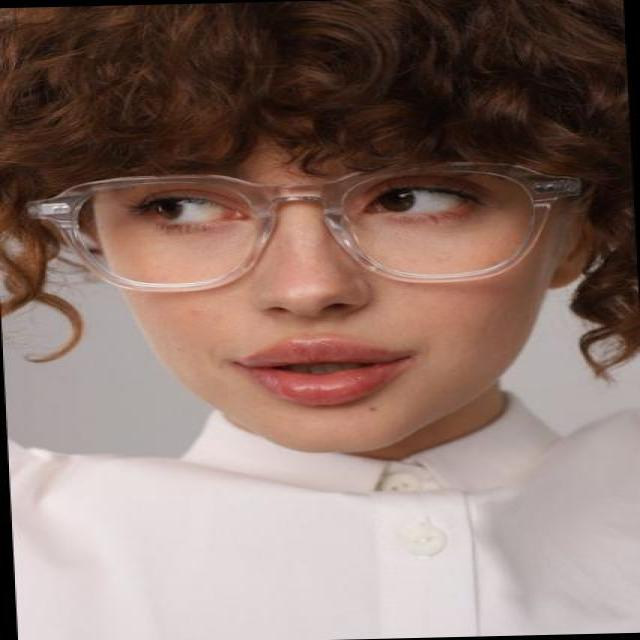glasses: (26, 164, 590, 292)
